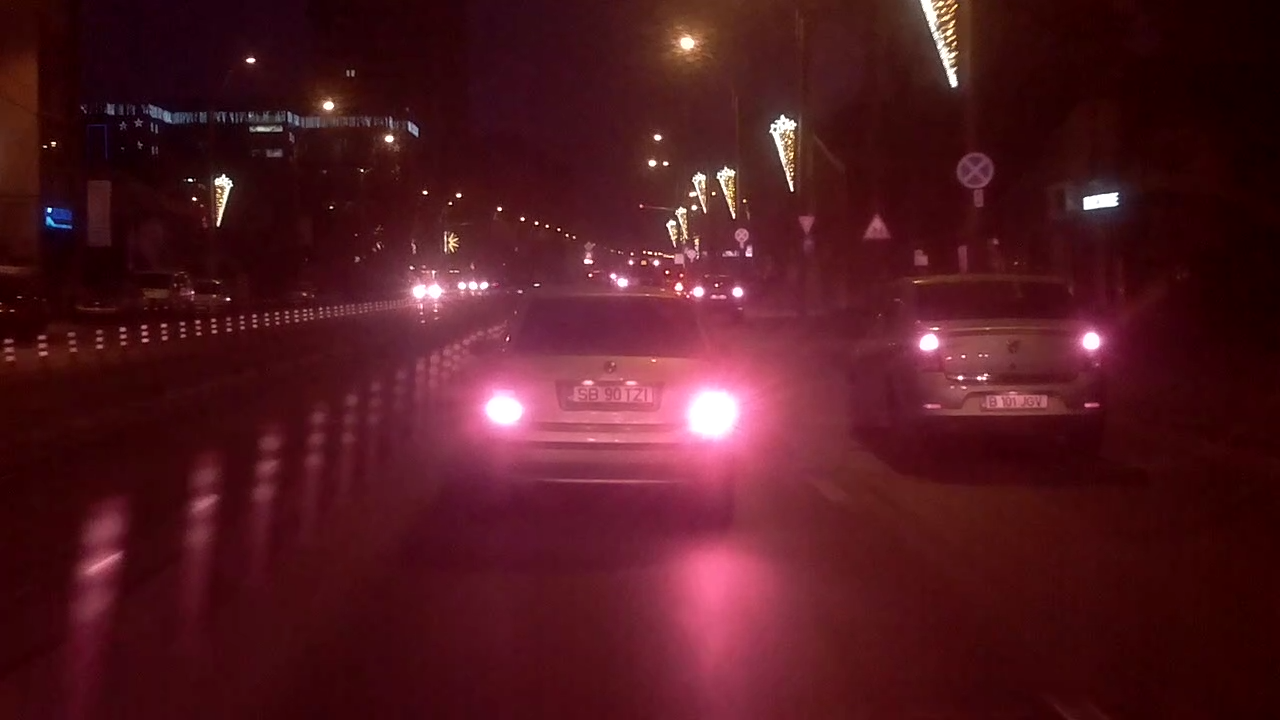license-plate: (561, 382, 654, 405), (976, 391, 1051, 411)
